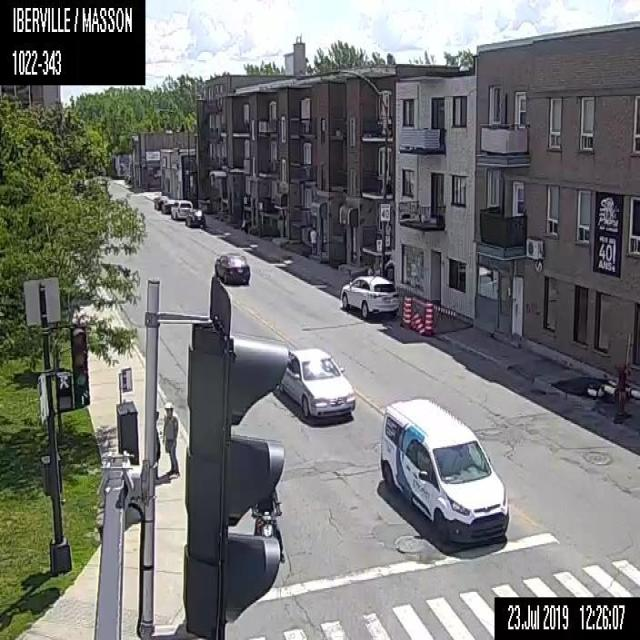construction: (550, 361, 632, 416), (402, 293, 412, 330), (424, 300, 434, 336), (412, 307, 422, 338)
pedestrian: (161, 402, 181, 478), (154, 408, 162, 478), (309, 227, 317, 254)
vehicle: (379, 395, 509, 549), (271, 345, 356, 419), (340, 273, 400, 319), (251, 487, 284, 562), (213, 252, 250, 285), (170, 199, 192, 220), (184, 208, 206, 227), (153, 194, 170, 210), (160, 197, 175, 214)
